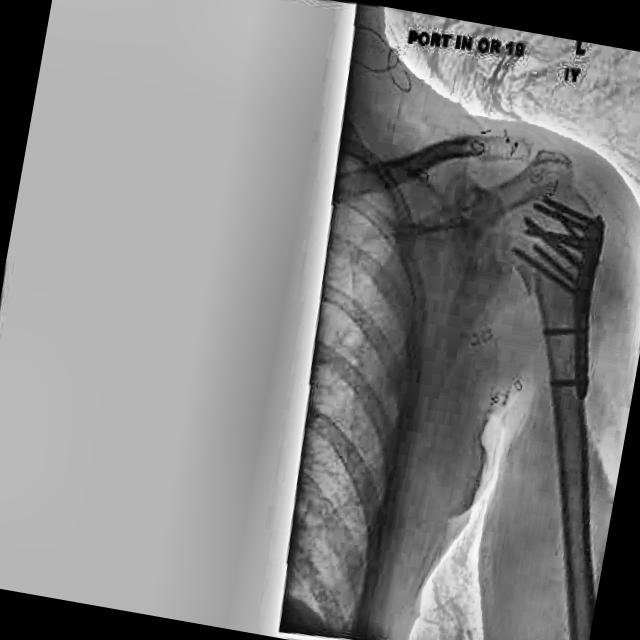humerus: (501, 255, 564, 324)
